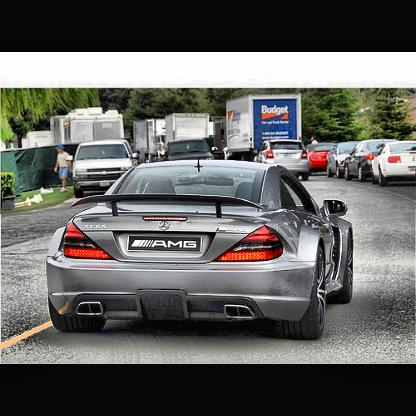Mercedes-Benz SL-Class Coupe 2009: (45, 160, 357, 347)
